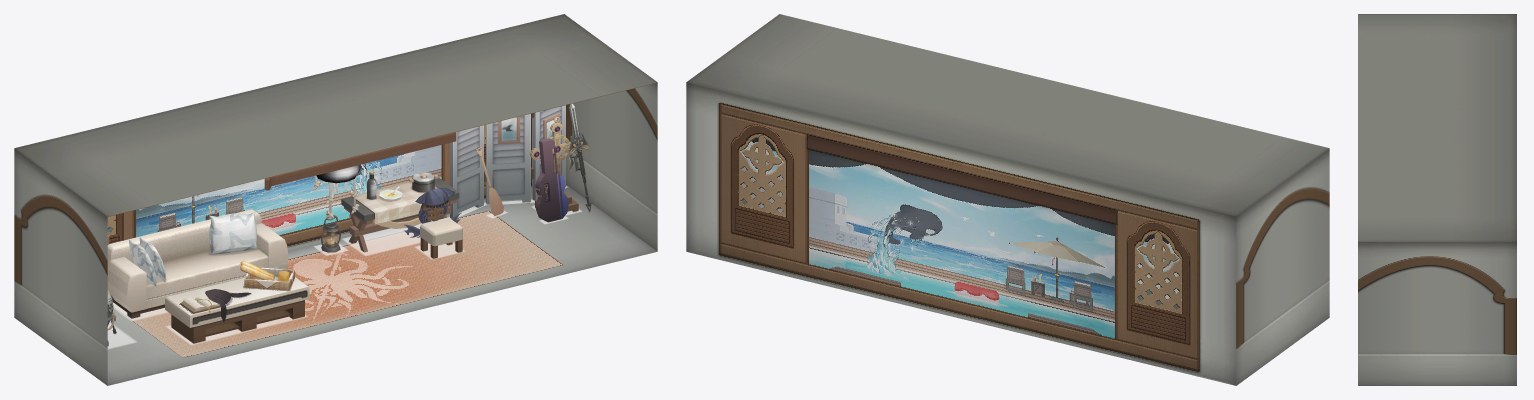
The model's file is abyssal.glb.
3 views of the same model, side by side, from view 1: azimuth 30°, elevation 25°; view 2: azimuth 150°, elevation 25°; view 3: azimuth 270°, elevation 25° (orthographic). The views are drawn at different scales.
Parts seen in each view (by area): view 1: ROOM_room, furni_abyssal_carpet_01, ROOM_floor, furni_abyssal_sofa_01, furni_abyssal_screen_01, furni_abyssal_coffeeTable_01, furni_abyssal_sofa_02, furni_abyssal_equipment_02, furni_abyssal_table_02, furni_abyssal_ceiling_01, furni_abyssal_coffeeTable_02, furni_abyssal_table_01 (+9 smaller); view 2: ROOM_room, ROOM_LDoor; view 3: ROOM_room, ROOM_RDoor.
Part boxes in pixels (x1,y1,x2,y2): ROOM_room: [14, 14, 657, 385]; furni_abyssal_carpet_01: [113, 210, 563, 357]; ROOM_floor: [107, 185, 657, 385]; furni_abyssal_sofa_01: [107, 209, 288, 318]; furni_abyssal_screen_01: [450, 105, 565, 218]; furni_abyssal_coffeeTable_01: [165, 260, 309, 343]; furni_abyssal_sofa_02: [129, 212, 257, 285]; furni_abyssal_equipment_02: [535, 103, 591, 222]; furni_abyssal_table_02: [355, 171, 438, 224]; furni_abyssal_ceiling_01: [264, 132, 456, 199]; furni_abyssal_coffeeTable_02: [180, 267, 294, 321]; furni_abyssal_table_01: [341, 177, 459, 252]; ROOM_room: [686, 14, 1329, 385]; ROOM_LDoor: [1297, 251, 1315, 341]; ROOM_room: [1358, 14, 1516, 385]; ROOM_RDoor: [1381, 320, 1413, 385].
Size of the model in its own units: 7.49 by 2.2 by 2.24.
Materials: 10 (10 with a texture image).
